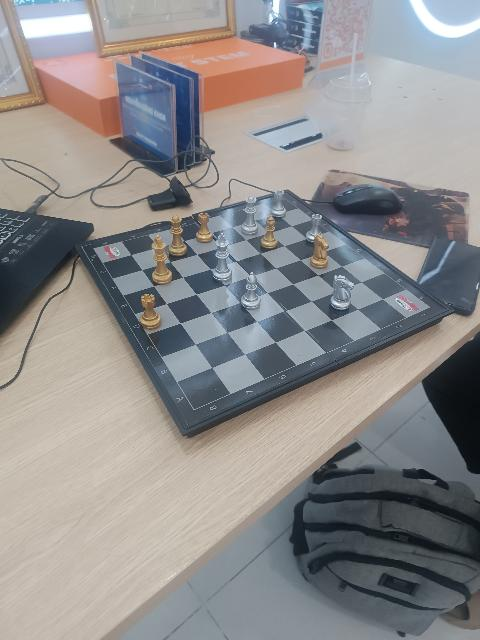black_bishop: (260, 215, 280, 251)
black_king: (150, 234, 172, 284)
black_knight: (309, 236, 331, 268)
black_queen: (169, 213, 188, 256)
black_rook: (137, 291, 162, 330), (194, 211, 214, 244)
white_bishop: (241, 272, 263, 309)
white_king: (213, 232, 232, 281)
white_knight: (330, 274, 355, 312)
white_queen: (327, 72, 371, 150), (242, 195, 260, 236)
white_rook: (270, 189, 289, 216), (306, 212, 324, 234)
